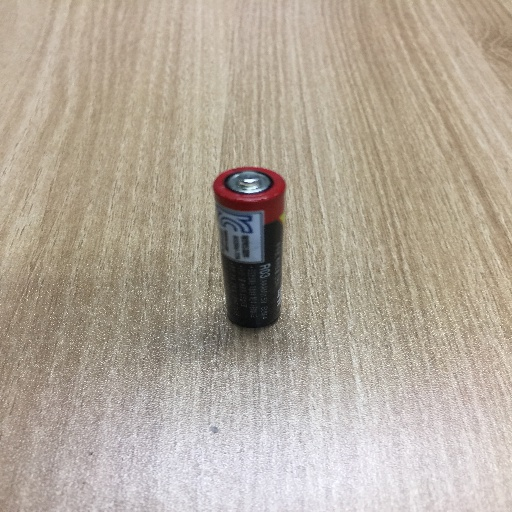Battery_0: (202, 151, 317, 352)
